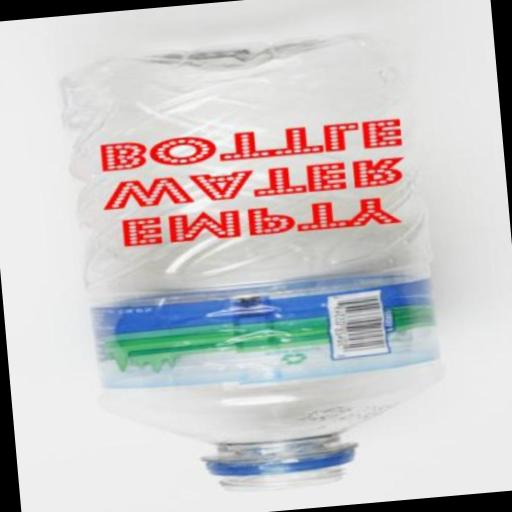Coca: (34, 19, 469, 512)
